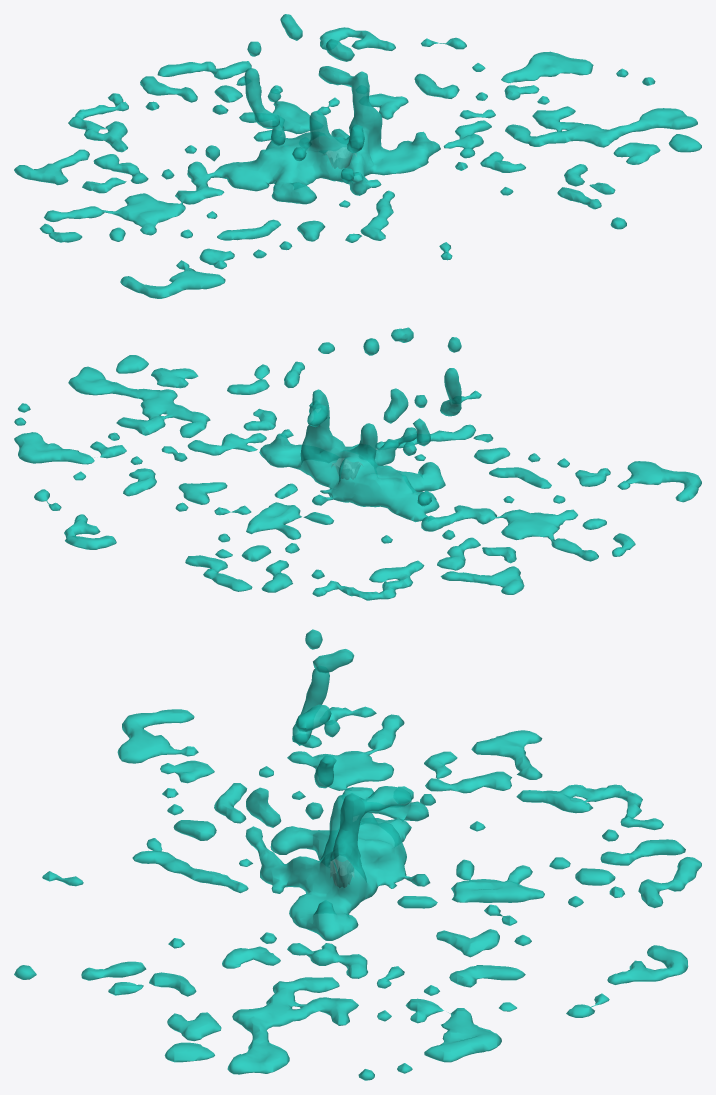
The picture shows the model from 3 angles, top to bottom: view 1: azimuth 30°, elevation 25°; view 2: azimuth 150°, elevation 25°; view 3: azimuth 270°, elevation 25°; orthographic projection. The views are drawn at different scales.
Visible parts, largest first — view 1: Liquid_Domain; view 2: Liquid_Domain; view 3: Liquid_Domain.
Boxes of the visible parts, x1,y1,x2,y2 form: Liquid_Domain: [14, 14, 701, 298]; Liquid_Domain: [14, 327, 701, 600]; Liquid_Domain: [14, 629, 701, 1080].
Bounding box in the file's own units: 10.99 × 2.9 × 8.64.
